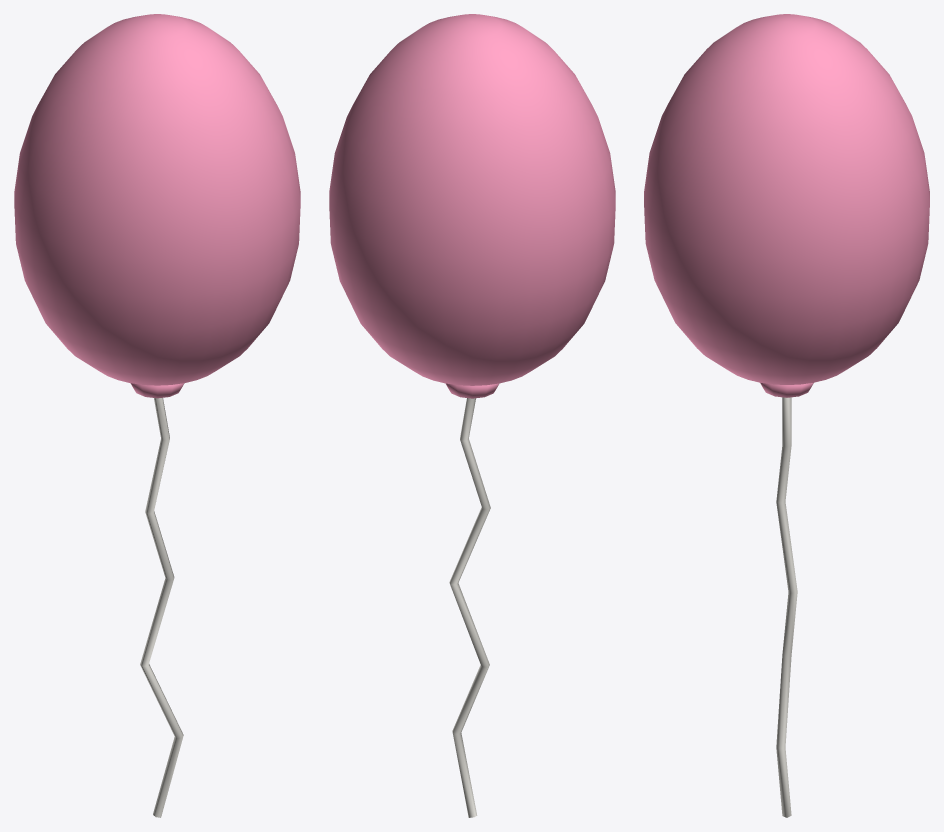
The model's file is Balloon.glb.
3 views of the same model, side by side, from view 1: azimuth 30°, elevation 25°; view 2: azimuth 150°, elevation 25°; view 3: azimuth 270°, elevation 25° (orthographic).
Parts seen in each view (by area): view 1: Balloon, String; view 2: Balloon, String; view 3: Balloon, String.
Boxes of the visible parts, x1,y1,x2,y2 form: Balloon: (14, 14, 300, 398); String: (140, 397, 183, 817); Balloon: (329, 14, 615, 398); String: (449, 398, 490, 817); Balloon: (644, 14, 929, 397); String: (776, 397, 797, 817).
Bounding box in the file's own units: 2.37 × 7.21 × 2.35.
